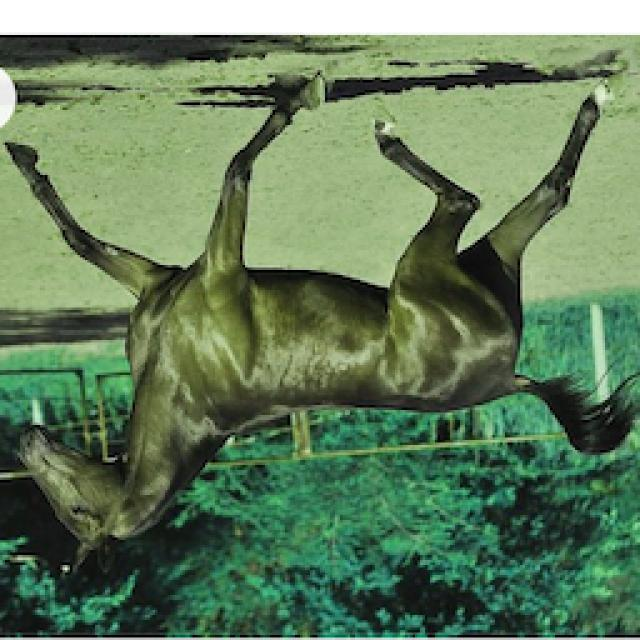Horse: (2, 70, 640, 580)
